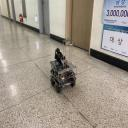cart: (49, 58, 77, 92)
